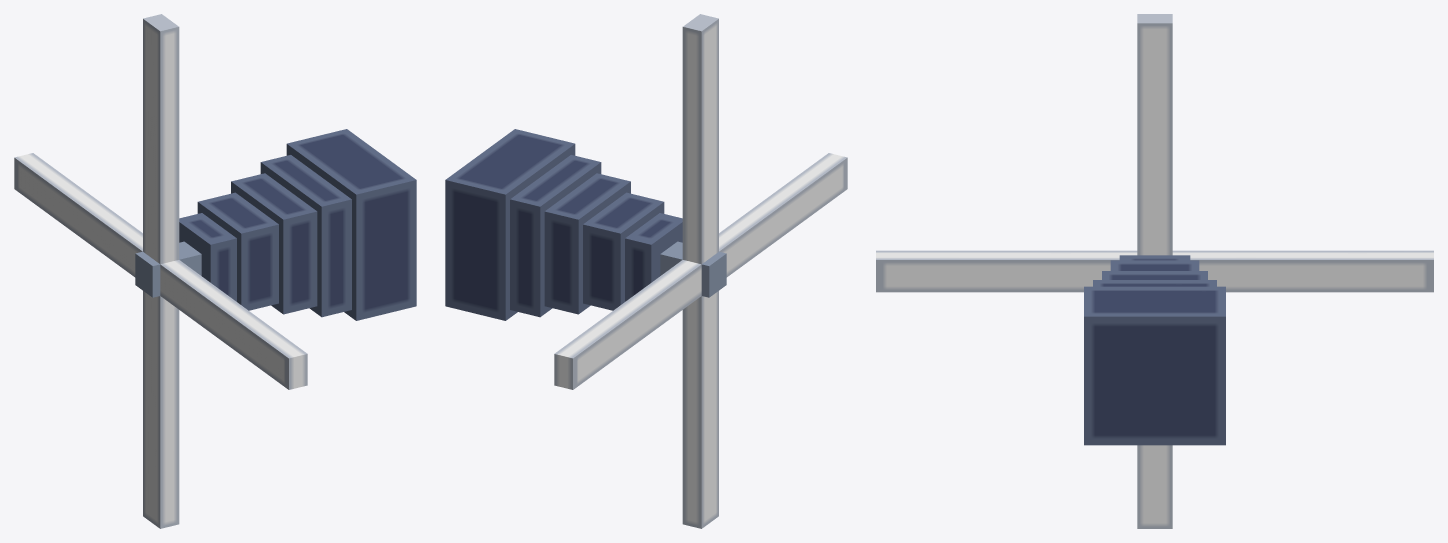
File: Helice.fbx
The picture shows the model from 3 angles, left to right: view 1: azimuth 30°, elevation 25°; view 2: azimuth 150°, elevation 25°; view 3: azimuth 270°, elevation 25°; orthographic projection.
Visible parts, largest first — view 1: Helice-0, Helice-1; view 2: Helice-0, Helice-1; view 3: Helice-1, Helice-0.
Part boxes in pixels (x1,y1,x2,y2): Helice-0: (135, 129, 416, 320); Helice-1: (14, 14, 307, 528); Helice-0: (445, 129, 726, 320); Helice-1: (554, 14, 847, 528); Helice-1: (876, 14, 1433, 528); Helice-0: (1084, 255, 1225, 445).
Bounding box in the file's own units: 63 × 126 × 126.
1 material, 1 textured.
